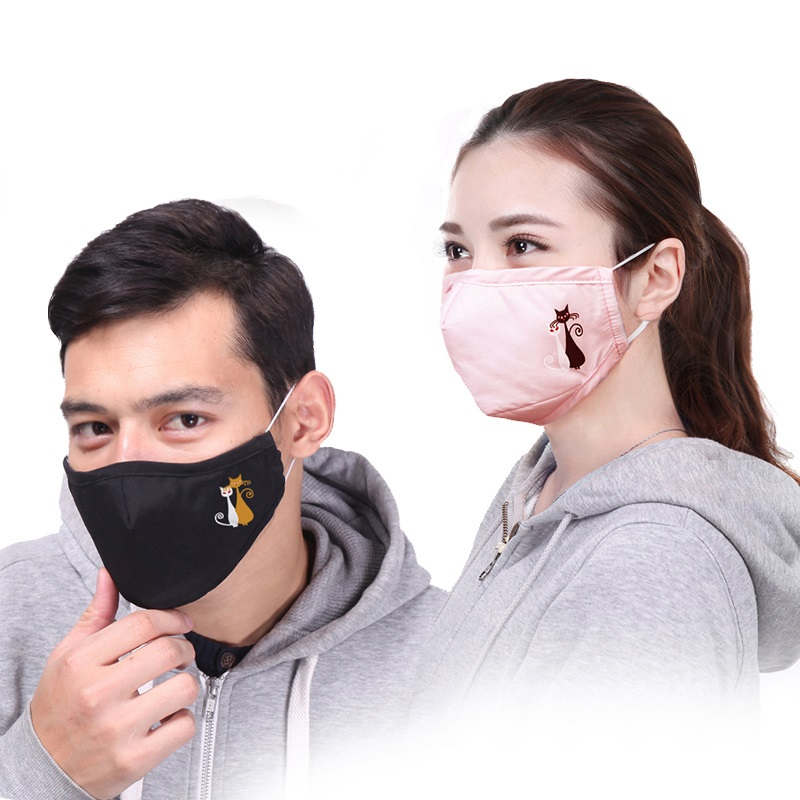face_mask: (59, 304, 273, 592), (439, 141, 629, 408)
